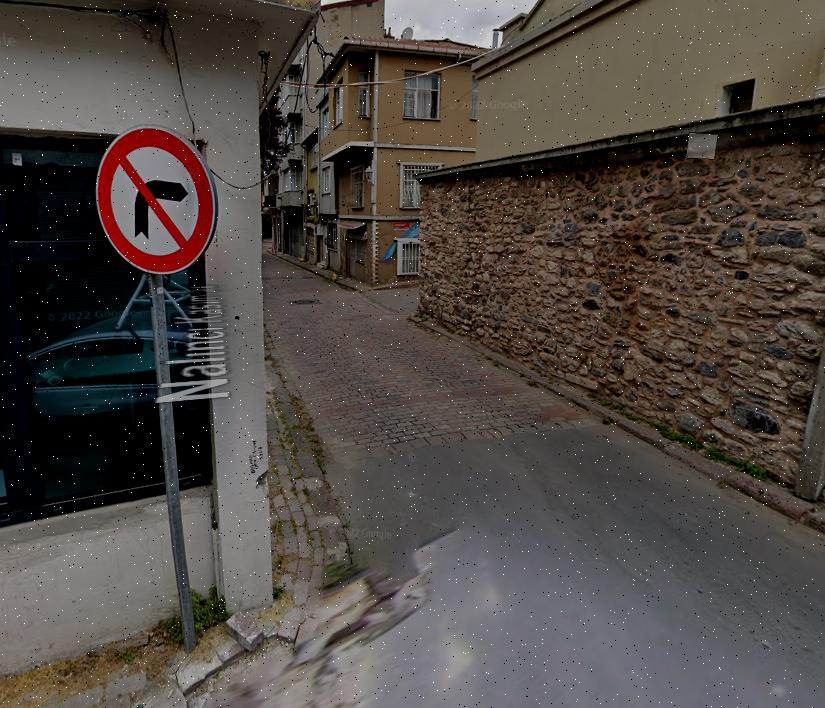rightturnsareforbidden: (98, 129, 217, 273)
